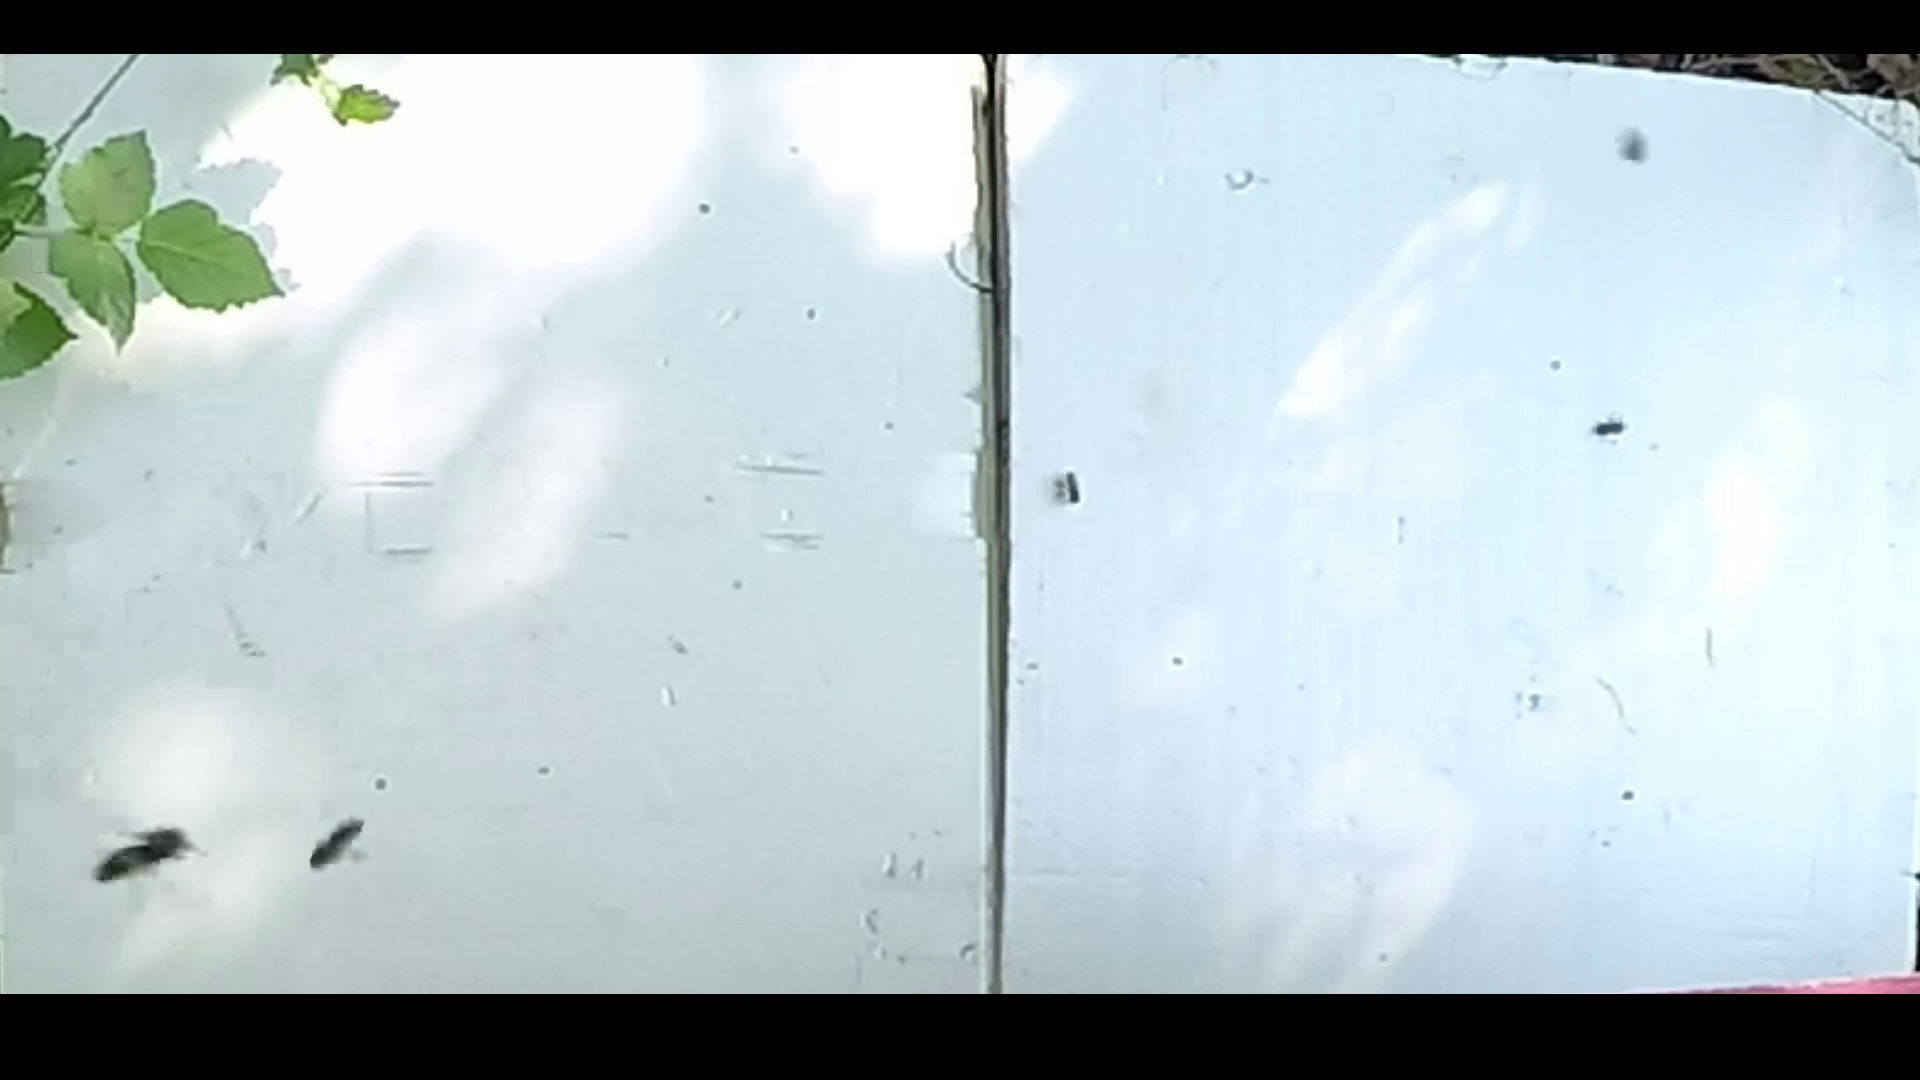Asian_hornets: (74, 783, 223, 913)
